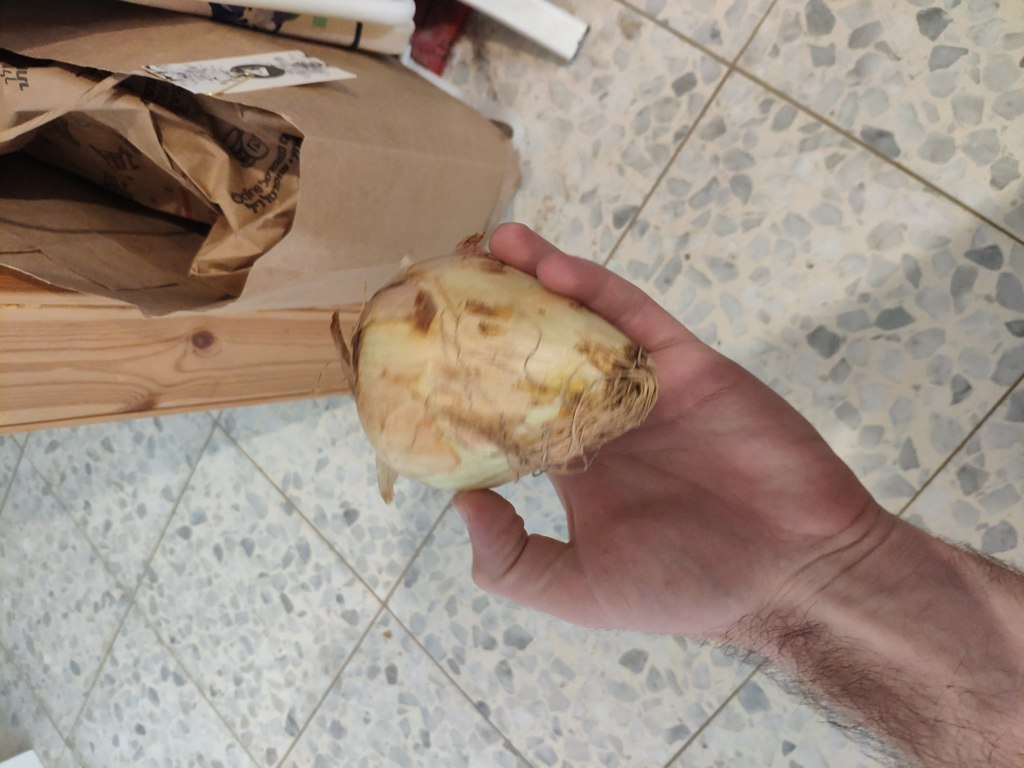Onion: (323, 237, 638, 492)
